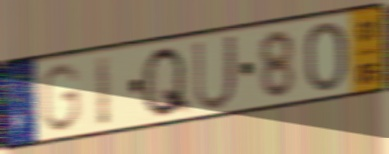8: (256, 28, 298, 101)
G: (38, 61, 82, 135)
I: (93, 52, 113, 131)
O: (303, 19, 349, 95)
Q: (139, 44, 193, 121)
U: (191, 31, 239, 113)
